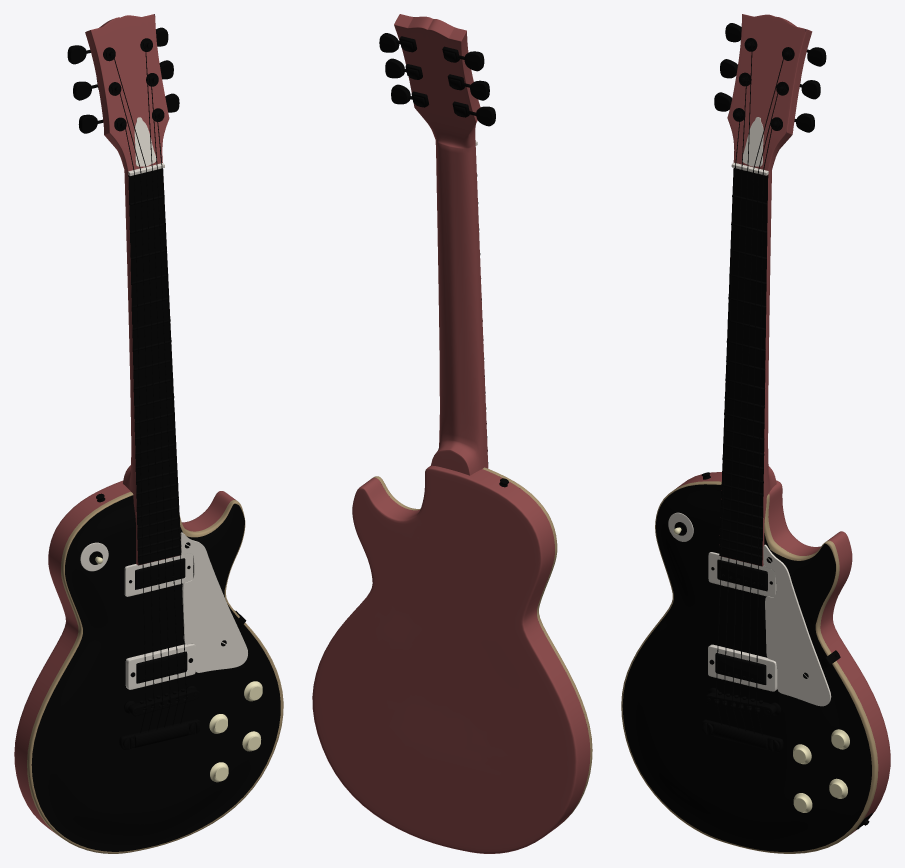
The picture shows the model from 3 angles, left to right: view 1: azimuth 30°, elevation 25°; view 2: azimuth 150°, elevation 25°; view 3: azimuth 330°, elevation 25°; orthographic projection. The views are drawn at different scales.
Visible parts, largest first — view 1: BezierCurve.006_BezierCurve.008; view 2: BezierCurve.006_BezierCurve.008; view 3: BezierCurve.006_BezierCurve.008.
Part boxes in pixels (<box>): BezierCurve.006_BezierCurve.008: <box>14,14,283,853</box>; BezierCurve.006_BezierCurve.008: <box>312,14,592,853</box>; BezierCurve.006_BezierCurve.008: <box>621,14,890,853</box>.
Size of the model in its own units: 4.14 by 12.62 by 1.33.
